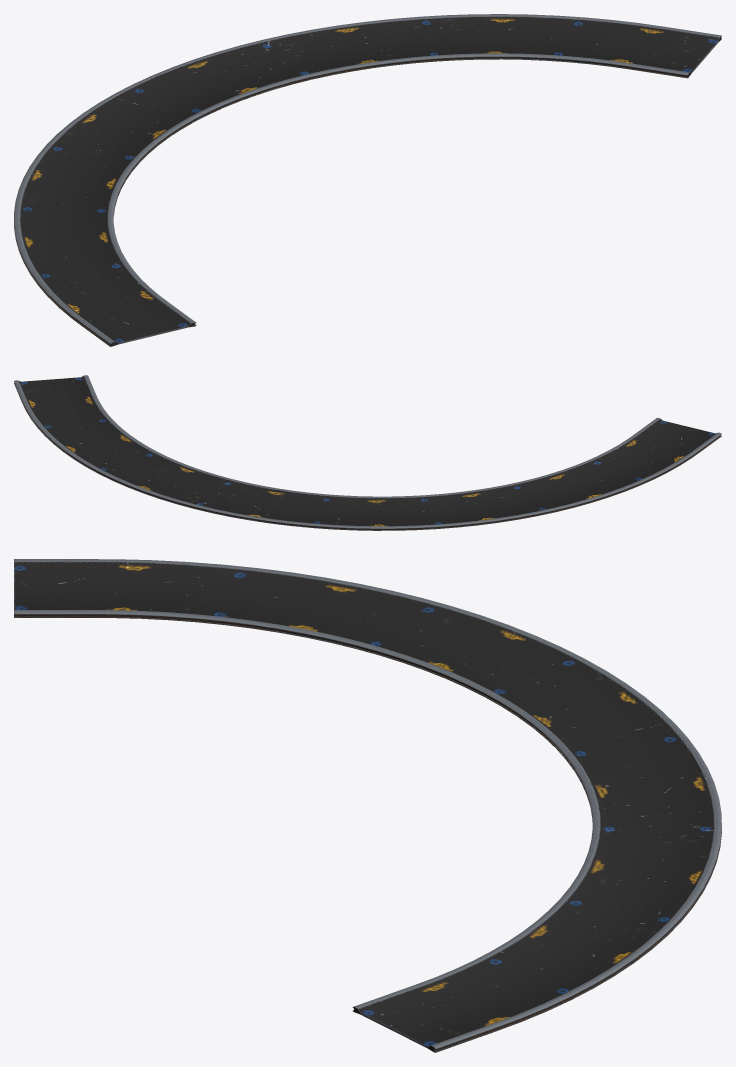
File: SM_Road_5.fbx
The picture shows the model from 3 angles, top to bottom: view 1: azimuth 30°, elevation 25°; view 2: azimuth 150°, elevation 25°; view 3: azimuth 270°, elevation 25°; orthographic projection. The views are drawn at different scales.
Parts seen in each view (by area): view 1: SM_Road_5; view 2: SM_Road_5; view 3: SM_Road_5.
Part boxes in pixels (bbox=[...]): SM_Road_5: bbox=[14, 14, 721, 346]; SM_Road_5: bbox=[14, 375, 721, 530]; SM_Road_5: bbox=[14, 559, 721, 1052].
Size of the model in its own units: 6104 by 31.13 by 3731.
